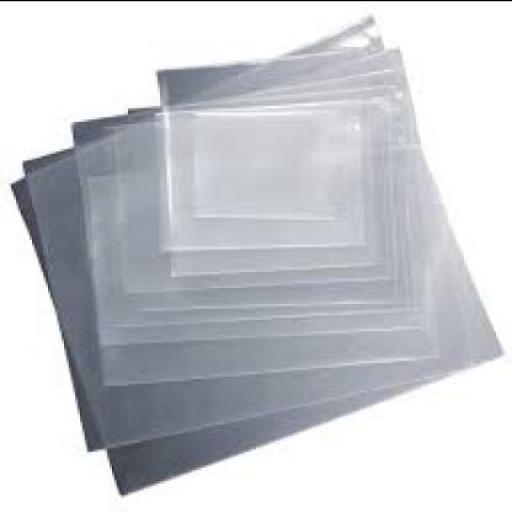plastic: (18, 21, 496, 498), (8, 46, 466, 456), (69, 50, 443, 389), (98, 70, 428, 330), (105, 94, 391, 296), (144, 106, 378, 269), (114, 123, 336, 271), (180, 110, 353, 225)
